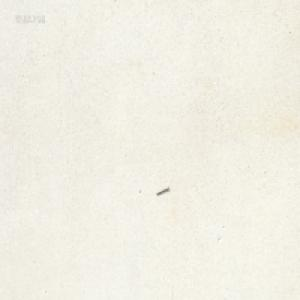Bolt: (155, 187, 169, 197)
